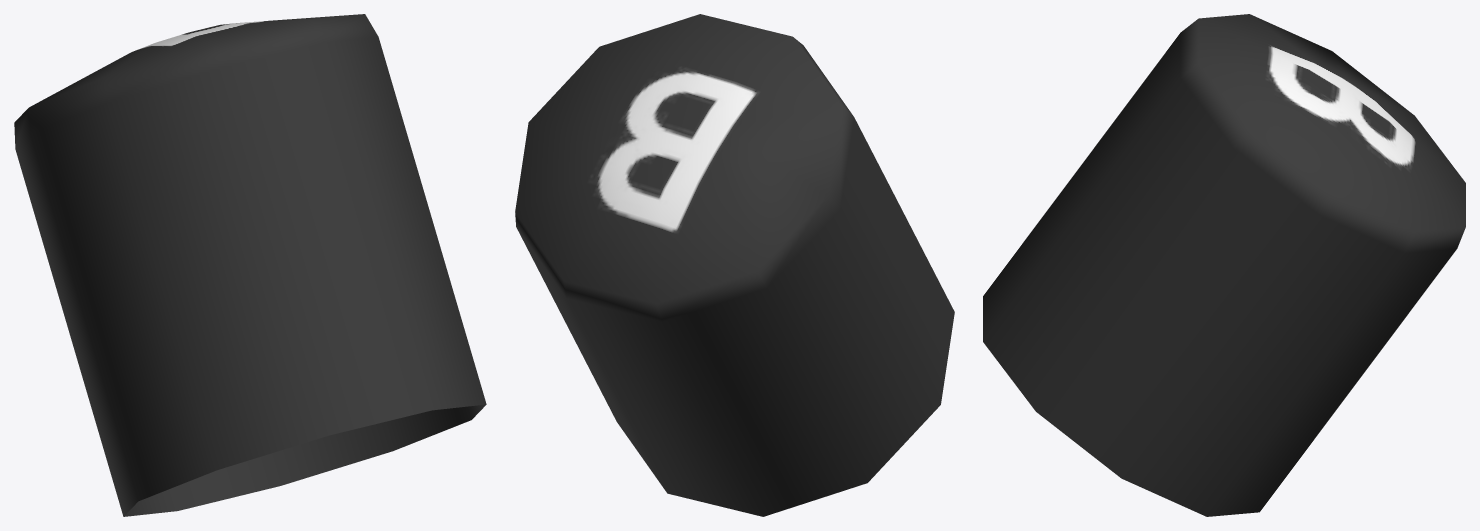
The model's file is crystal_controller_right_button4.obj.
The picture shows the model from 3 angles, left to right: view 1: azimuth 30°, elevation 25°; view 2: azimuth 150°, elevation 25°; view 3: azimuth 270°, elevation 25°; orthographic projection. The views are drawn at different scales.
Parts seen in each view (by area): view 1: crystal_controller_right_button4; view 2: crystal_controller_right_button4; view 3: crystal_controller_right_button4.
Boxes of the visible parts, x1,y1,x2,y2 form: crystal_controller_right_button4: (14, 14, 486, 516); crystal_controller_right_button4: (515, 14, 954, 516); crystal_controller_right_button4: (983, 14, 1465, 516).
Size of the model in its own units: 0.01 by 0.0142 by 0.0138.
Materials: 1 (1 with a texture image).
